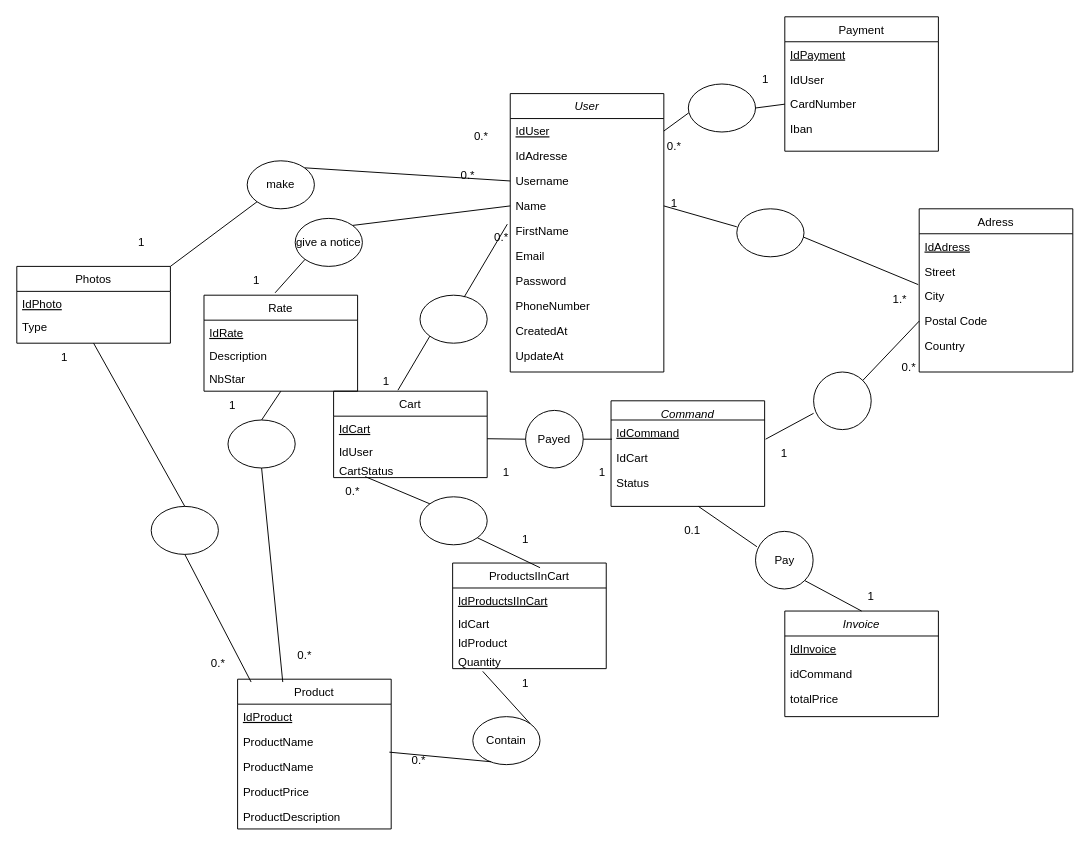
Some shapes in this 1090 by 849 pixel diagram are drawn without their labels. The centre of each missing label's shape, as x and y in pixels:
"Belong" belongs at point 453,520.
"Delivered" belongs at point 842,400.
"have" belongs at point 453,318.
"Live at" belongs at point 770,232.
"means of payment" belongs at point 721,107.
"represented" belongs at point 184,529.
"value" belongs at point 261,443.
